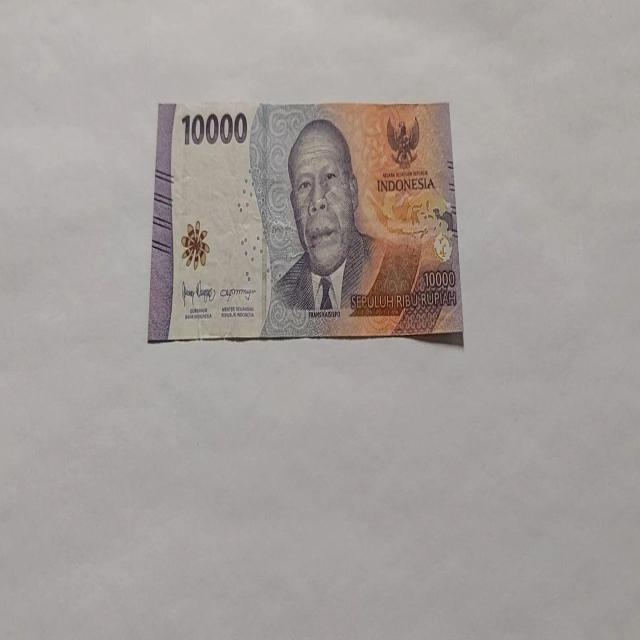Kertas: (147, 99, 464, 344), (180, 110, 248, 148)
